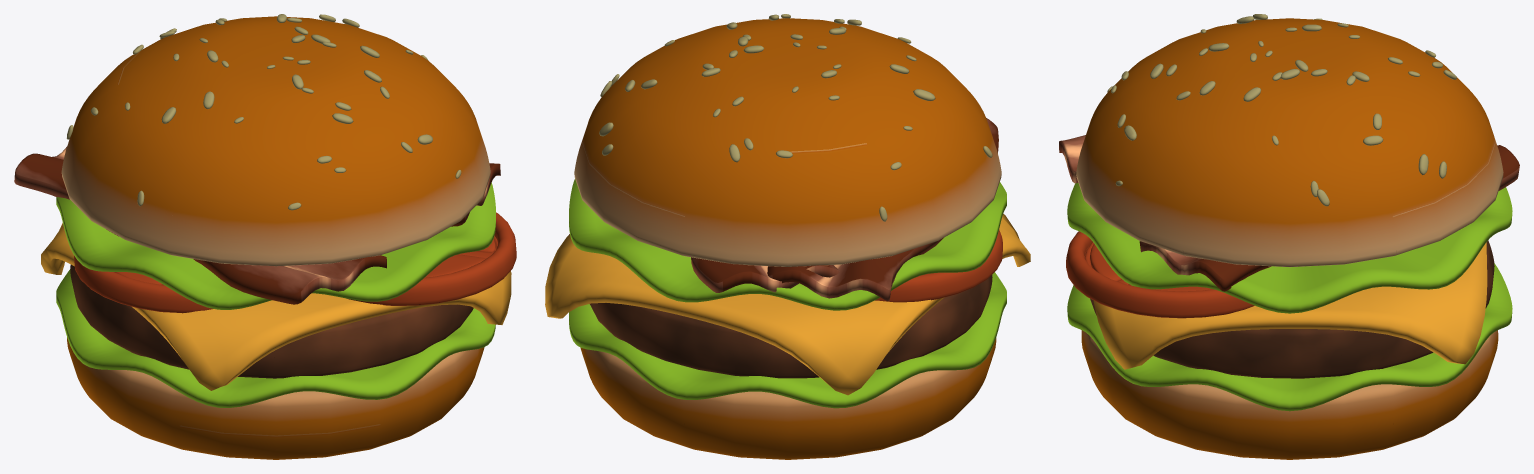
File: yummy_hamburger.glb
The picture shows the model from 3 angles, left to right: view 1: azimuth 30°, elevation 25°; view 2: azimuth 150°, elevation 25°; view 3: azimuth 270°, elevation 25°; orthographic projection.
Visible parts, largest first — view 1: Object_2, Object_8, Object_3, Object_4, Object_5, Object_9, Object_7, Object_6; view 2: Object_2, Object_8, Object_3, Object_4, Object_5, Object_7, Object_6, Object_9; view 3: Object_2, Object_8, Object_3, Object_4, Object_5, Object_9, Object_6, Object_7.
Part boxes in pixels (x1,y1,x2,y2): Object_2: (61, 16, 490, 266); Object_8: (56, 182, 495, 407); Object_3: (67, 337, 484, 459); Object_4: (41, 223, 511, 390); Object_5: (70, 264, 473, 378); Object_9: (74, 212, 516, 313); Object_7: (14, 147, 500, 304); Object_6: (66, 14, 461, 210); Object_2: (574, 18, 1001, 266); Object_8: (569, 179, 1006, 408); Object_3: (580, 338, 996, 459); Object_4: (545, 214, 1030, 395); Object_5: (590, 275, 992, 378); Object_7: (691, 118, 998, 301); Object_6: (599, 14, 992, 221); Object_9: (875, 229, 1002, 302); Object_2: (1076, 18, 1503, 267); Object_8: (1067, 183, 1512, 411); Object_3: (1081, 330, 1498, 459); Object_4: (1093, 242, 1487, 369); Object_5: (1090, 240, 1494, 378); Object_9: (1066, 231, 1254, 318); Object_6: (1107, 14, 1456, 206); Object_7: (1059, 135, 1519, 291).
Size of the model in its own units: 0.2502 by 0.2125 by 0.2589.
Materials: 8 (4 with a texture image).
